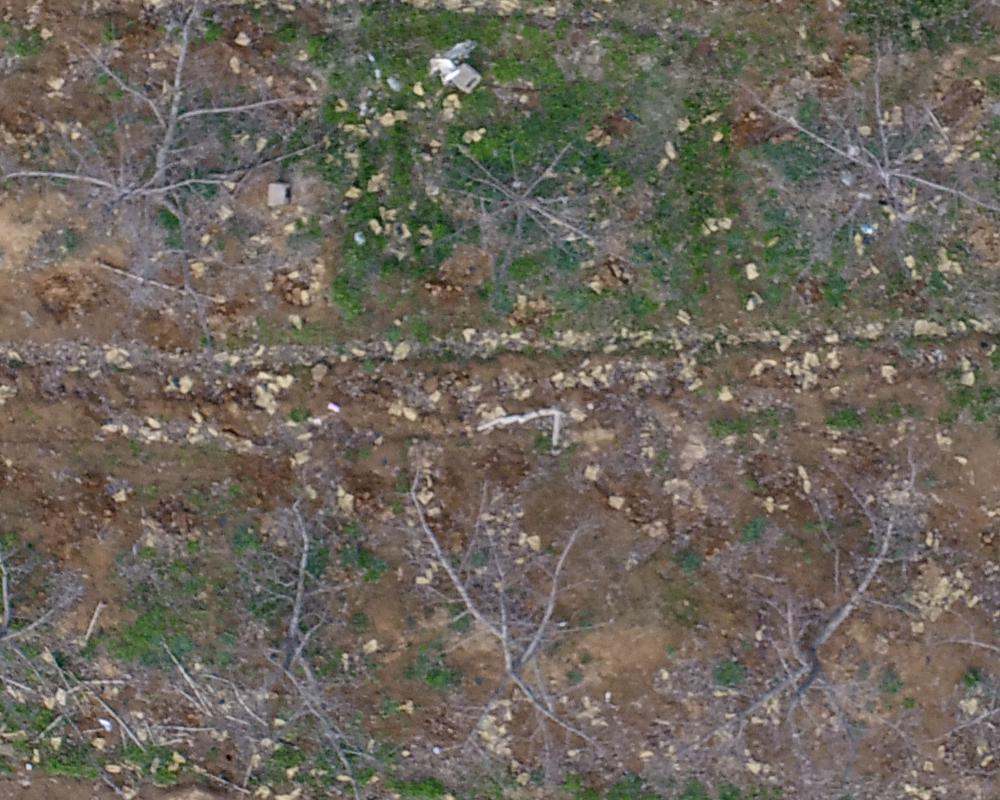apple: (10, 10, 334, 288), (695, 490, 917, 774), (402, 485, 614, 760), (188, 505, 377, 782), (742, 41, 990, 247), (431, 135, 612, 296), (10, 508, 98, 726)
